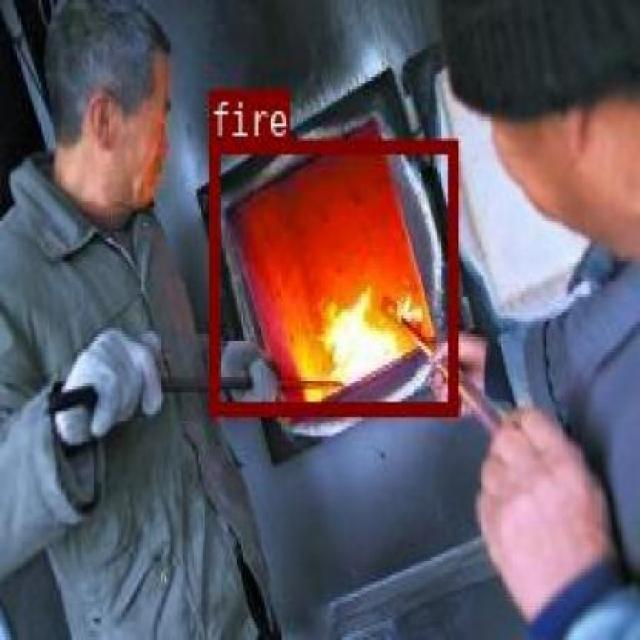Fire: (208, 138, 454, 414)
